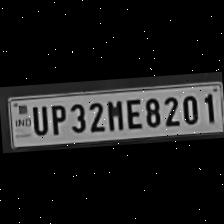0: (176, 92, 200, 125)
1: (200, 90, 218, 124)
2: (160, 92, 180, 128), (86, 97, 104, 132)
3: (65, 100, 85, 134)
8: (141, 94, 161, 128)
E: (122, 95, 142, 130)
M: (103, 96, 123, 132)
P: (46, 100, 67, 136)
U: (29, 102, 48, 136)
